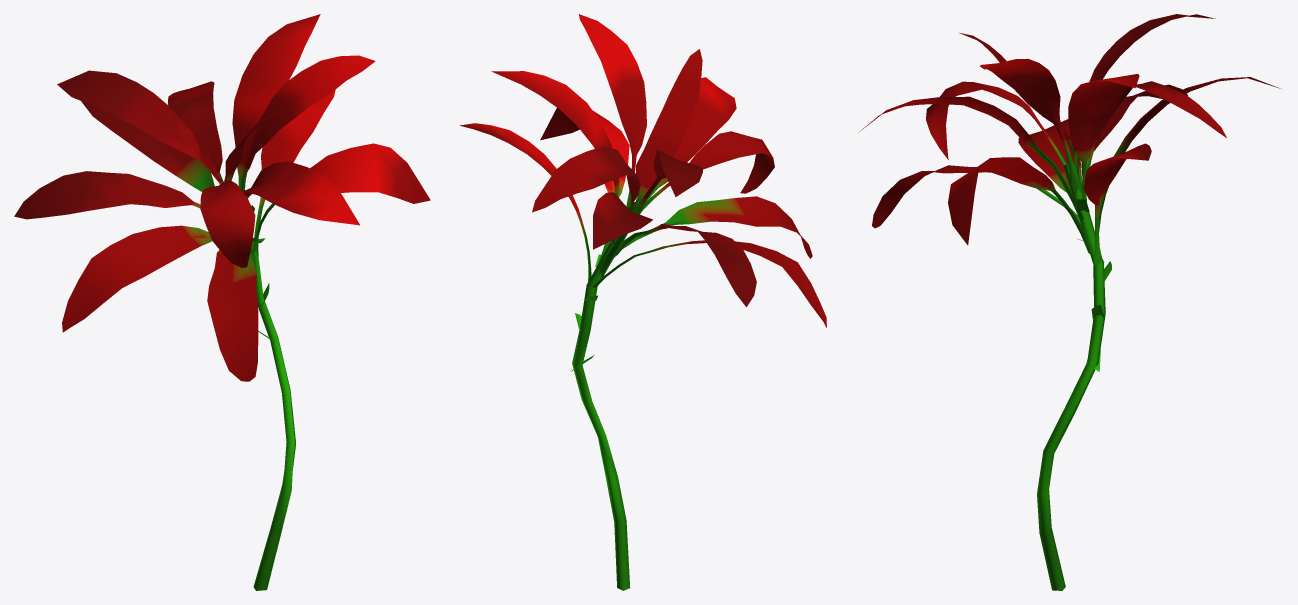
Rendered from Var3_LOD0.fbx.
3 renders of one model, left to right at view 1: azimuth 30°, elevation 25°; view 2: azimuth 150°, elevation 25°; view 3: azimuth 270°, elevation 25°, orthographic. The views are drawn at different scales.
Visible parts, largest first — view 1: _765d_Var3_LOD0; view 2: _765d_Var3_LOD0; view 3: _765d_Var3_LOD0.
Part boxes in pixels (<box>): _765d_Var3_LOD0: <box>14,14,430,590</box>; _765d_Var3_LOD0: <box>460,14,826,590</box>; _765d_Var3_LOD0: <box>857,14,1280,590</box>.
Bounding box in the file's own units: 38.71 × 60.28 × 41.65.
